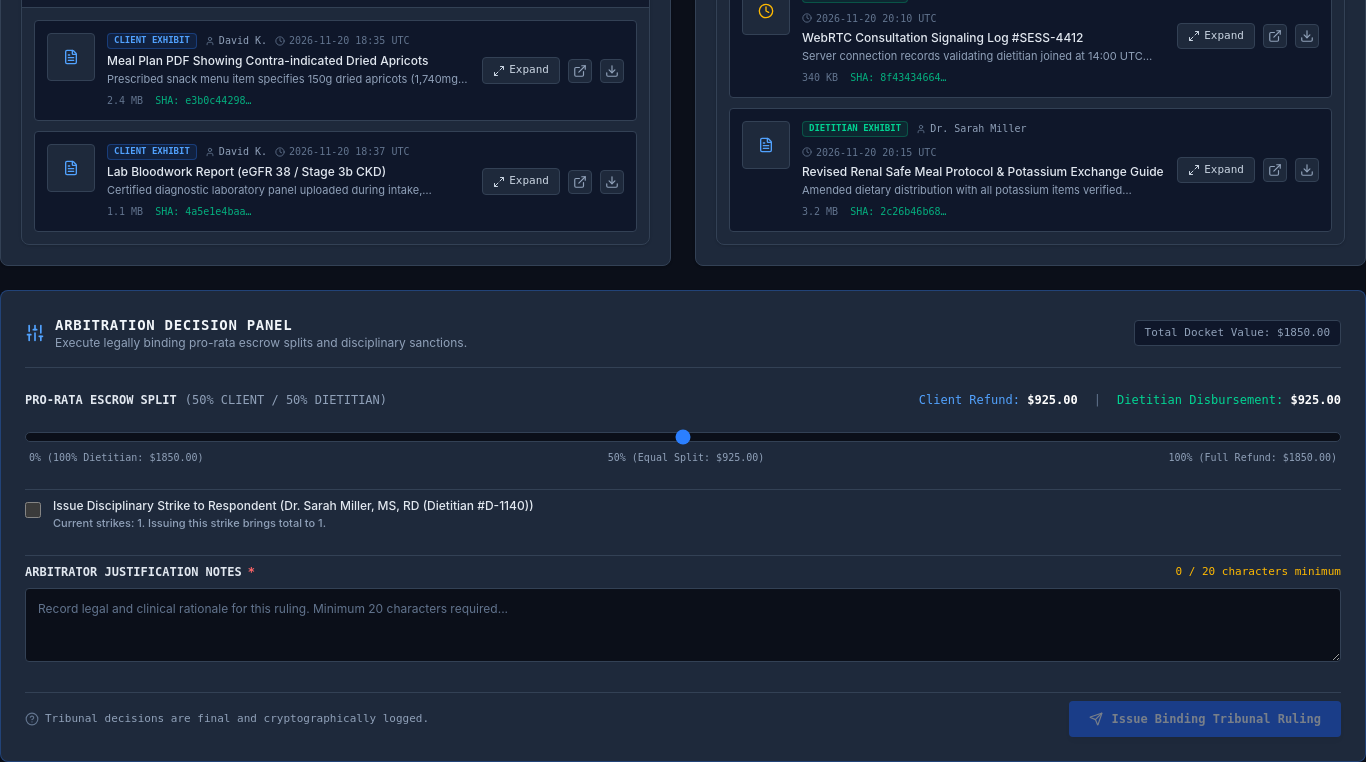
Test: Arbitration Escrow Calculation & Floating Point Drift Check › updates client and dietitian payout sums across various slider ratios without floating point drift
(page scrolled)
Set the slider with test id "escrow-slider" to "0": coordinates (33, 437) [25,432,1341,442]
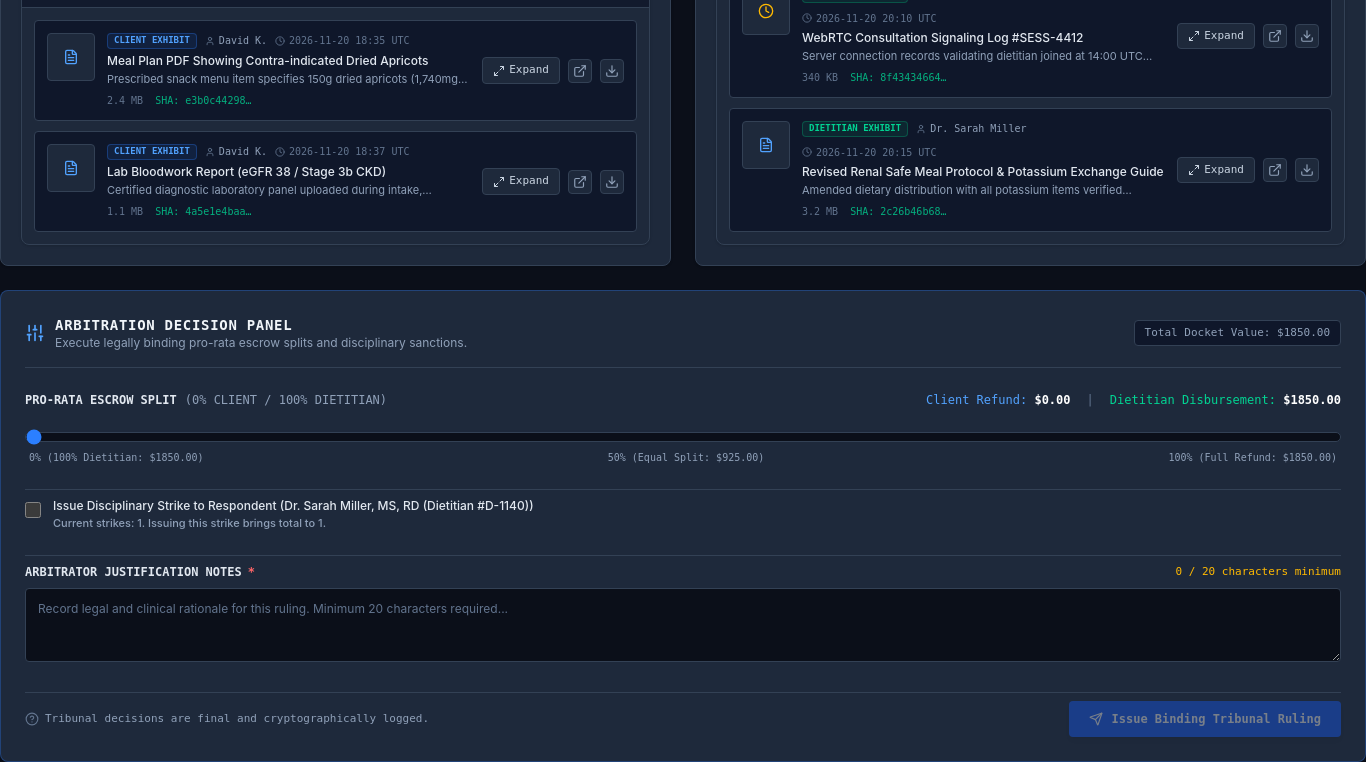
Expected: the text with test id "client-refund-amount" reads "$0.00", [1034,393,1070,407]
Expected: the text with test id "dietitian-payout-amount" reads "$1850.00", [1283,393,1341,407]
Set the slider with test id "escrow-slider" to "25": coordinates (358, 437) [25,432,1341,442]
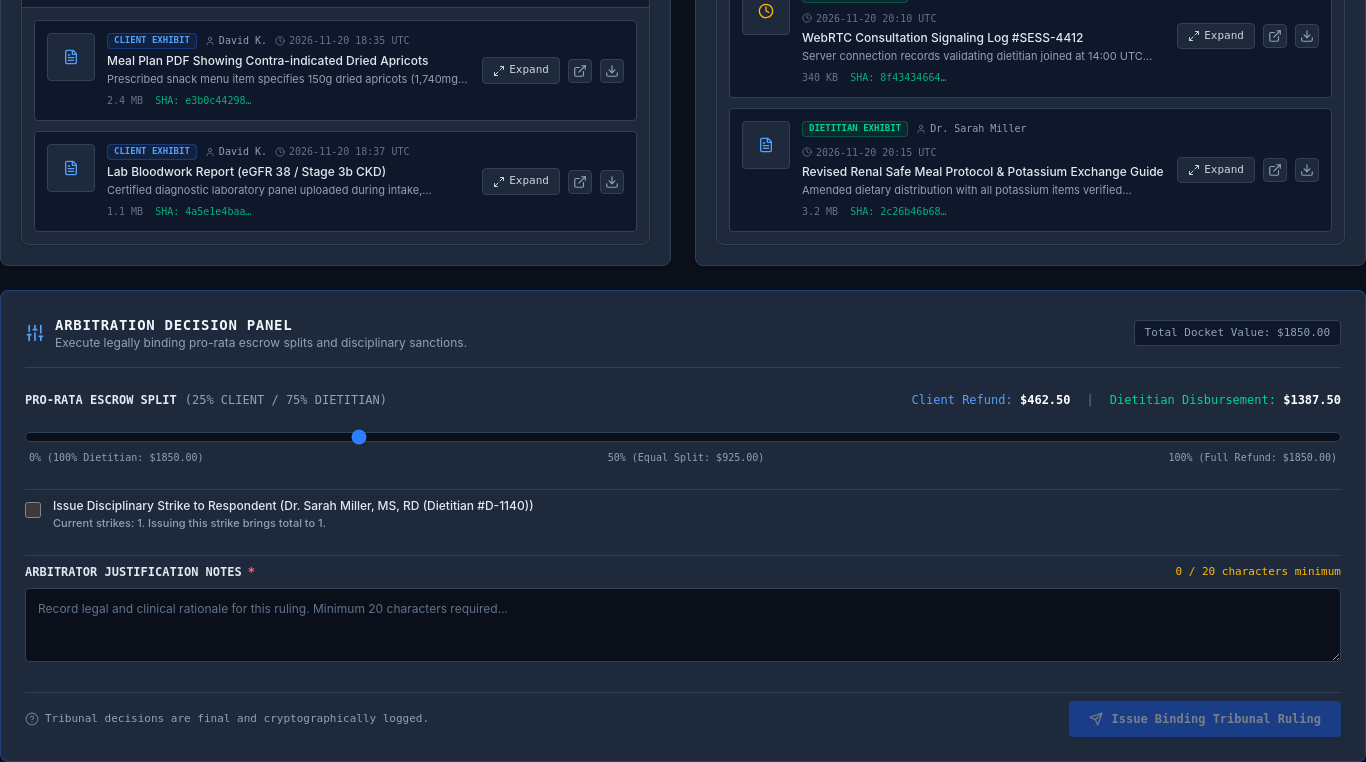
Expected: the text with test id "client-refund-amount" reads "$462.50", [1020,393,1071,407]
Expected: the text with test id "dietitian-payout-amount" reads "$1387.50", [1283,393,1341,407]
Set the slider with test id "escrow-slider" to "33": coordinates (462, 437) [25,432,1341,442]
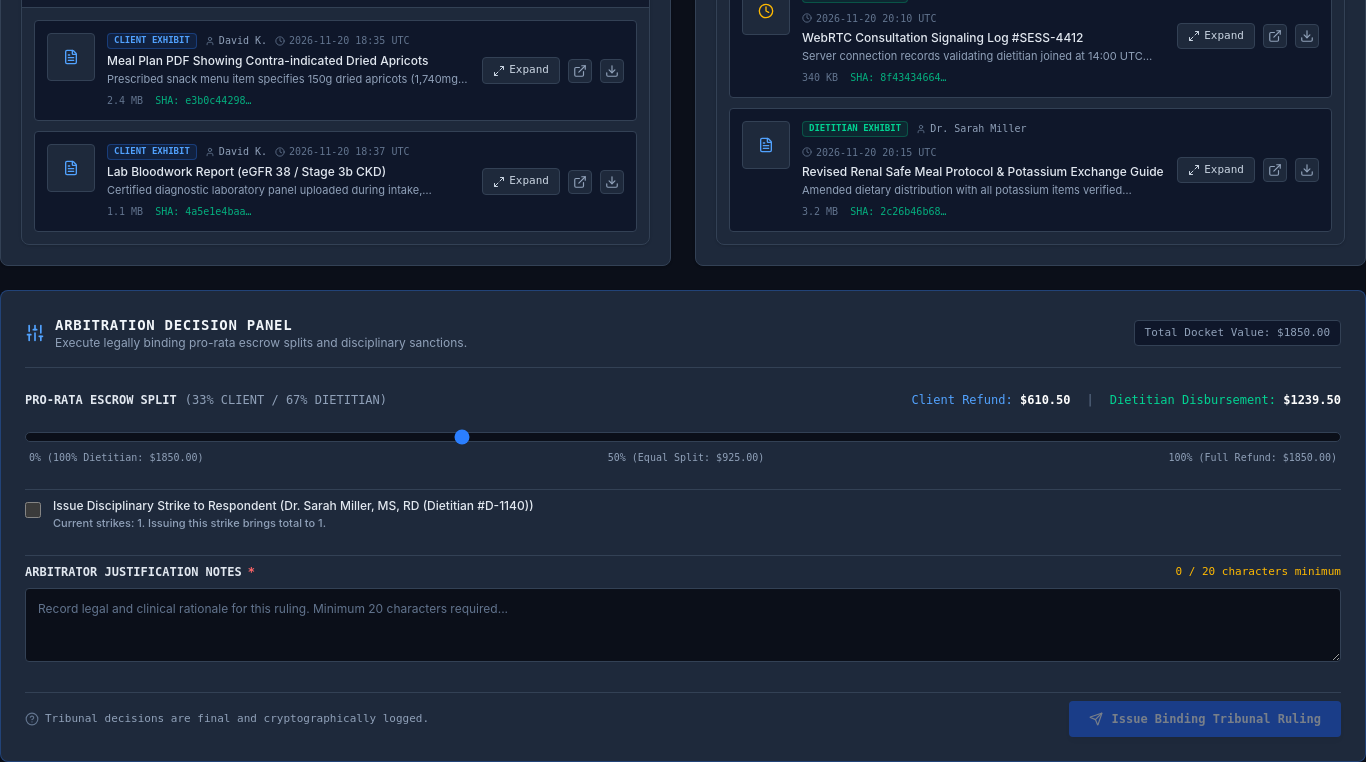
Expected: the text with test id "client-refund-amount" reads "$610.50", [1020,393,1071,407]
Expected: the text with test id "dietitian-payout-amount" reads "$1239.50", [1283,393,1341,407]
Set the slider with test id "escrow-slider" to "50": coordinates (683, 437) [25,432,1341,442]
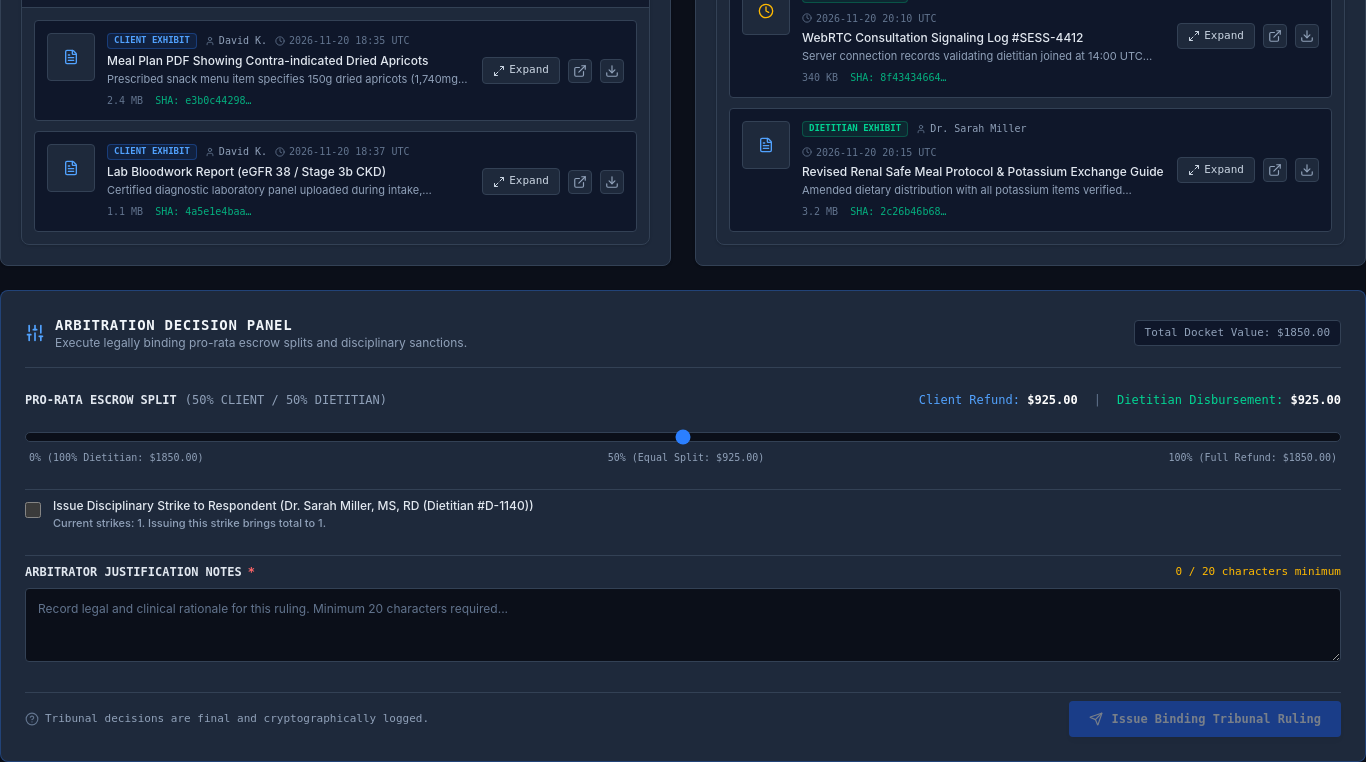
Expected: the text with test id "client-refund-amount" reads "$925.00", [1027,393,1078,407]
Expected: the text with test id "dietitian-payout-amount" reads "$925.00", [1290,393,1341,407]
Set the slider with test id "escrow-slider" to "75": coordinates (1008, 437) [25,432,1341,442]
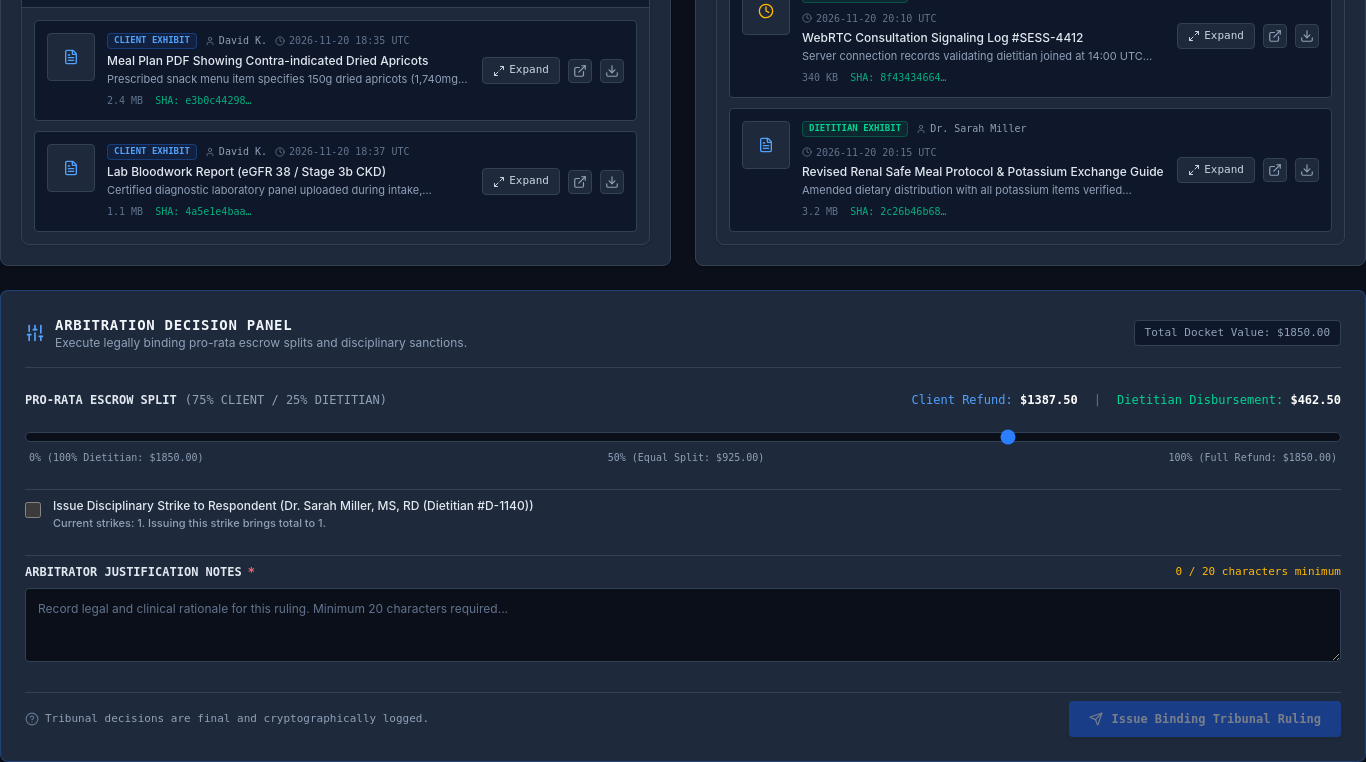
Expected: the text with test id "client-refund-amount" reads "$1387.50", [1020,393,1078,407]
Expected: the text with test id "dietitian-payout-amount" reads "$462.50", [1290,393,1341,407]
Set the slider with test id "escrow-slider" to "100": coordinates (1333, 437) [25,432,1341,442]
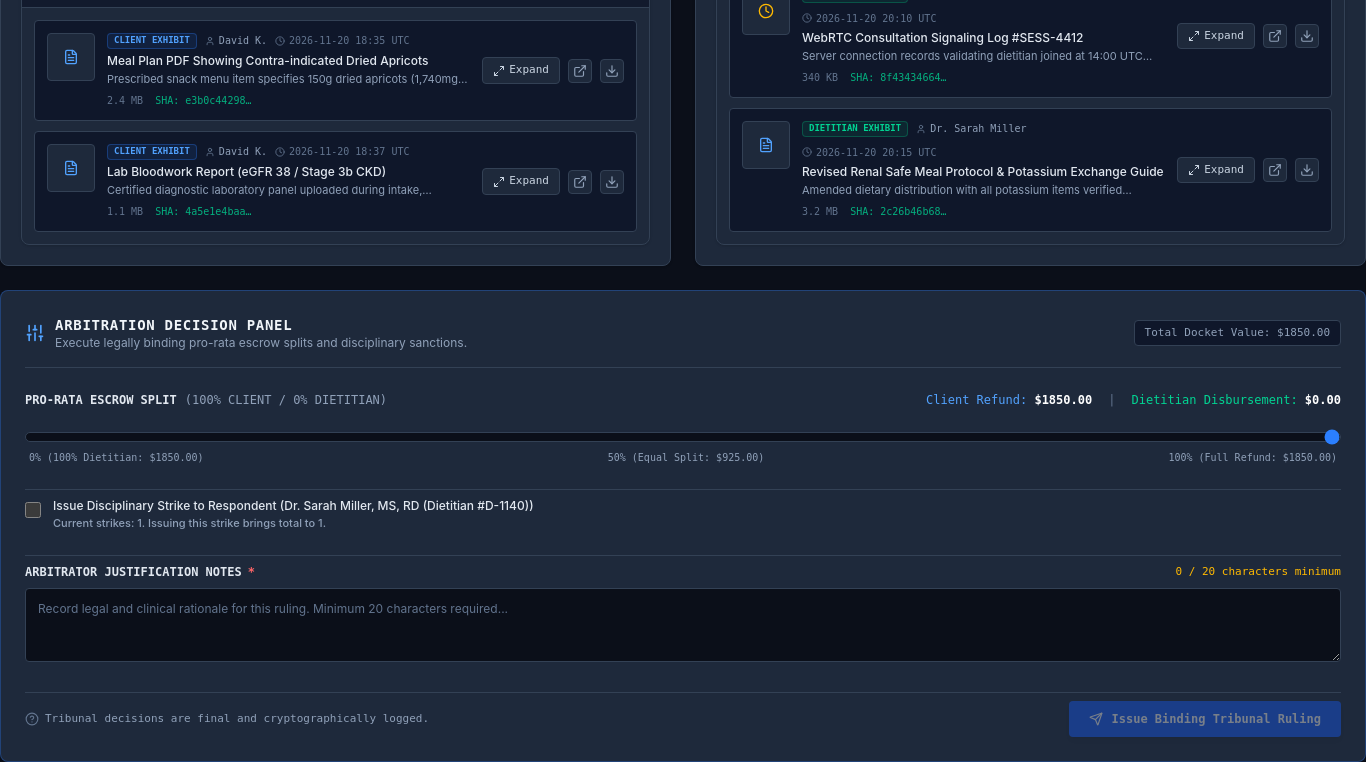
Expected: the text with test id "client-refund-amount" reads "$1850.00", [1034,393,1092,407]
Expected: the text with test id "dietitian-payout-amount" reads "$0.00", [1305,393,1341,407]
